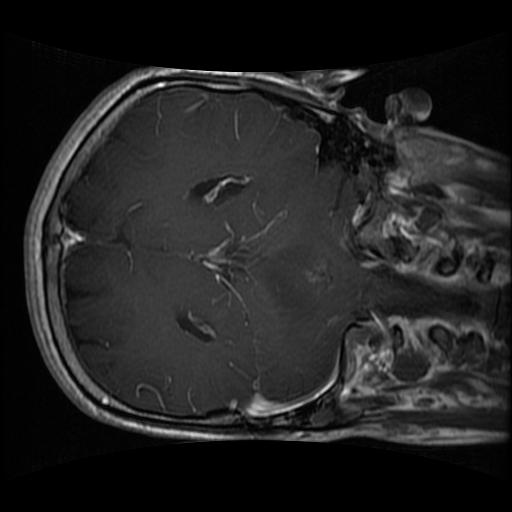glioma: (256, 242, 333, 316)
